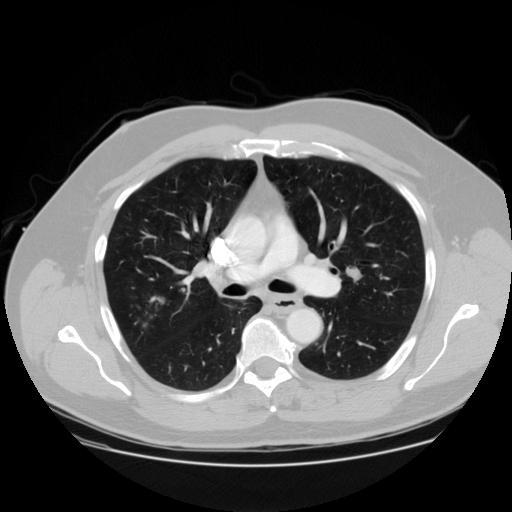nodule: (345, 264, 362, 281)
